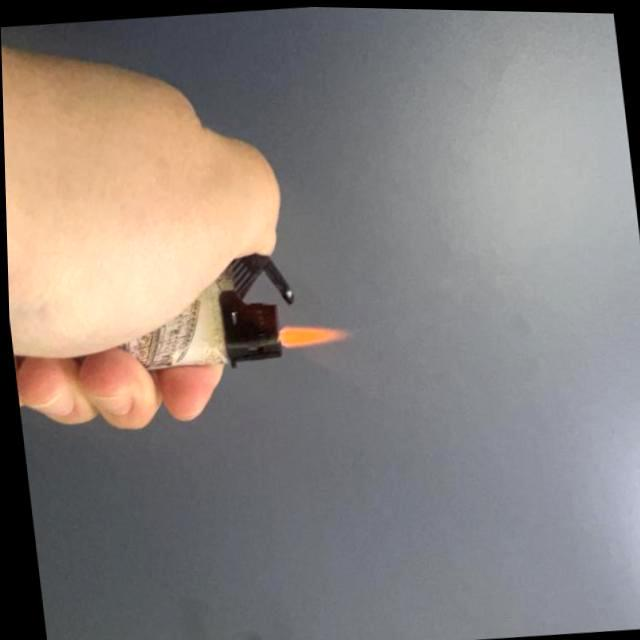fire: (274, 314, 354, 354)
